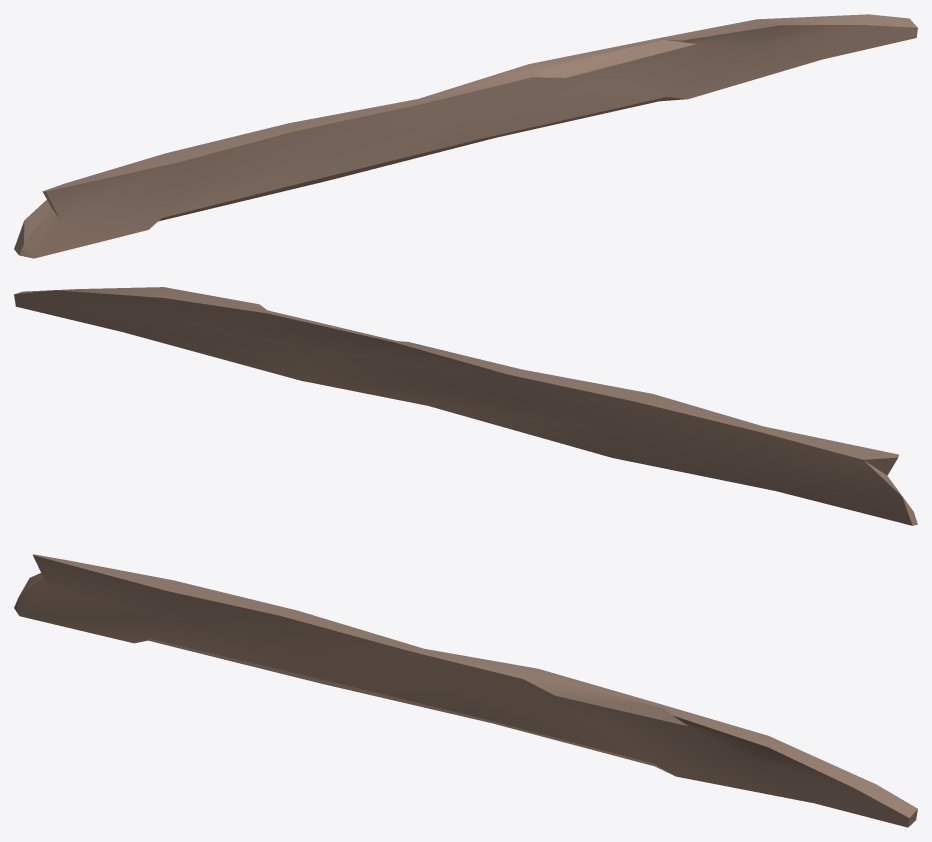
Rendered from SM_Blockout_Ruins_Timber_01.fbx.
The picture shows the model from 3 angles, top to bottom: view 1: azimuth 30°, elevation 25°; view 2: azimuth 150°, elevation 25°; view 3: azimuth 330°, elevation 25°; orthographic projection.
Visible parts, largest first — view 1: Cube.004; view 2: Cube.004; view 3: Cube.004.
Boxes of the visible parts, x1,y1,x2,y2 form: Cube.004: [14, 14, 917, 258]; Cube.004: [14, 287, 917, 525]; Cube.004: [14, 554, 917, 827].
Bounding box in the file's own units: 351 × 23.87 × 8.5.
